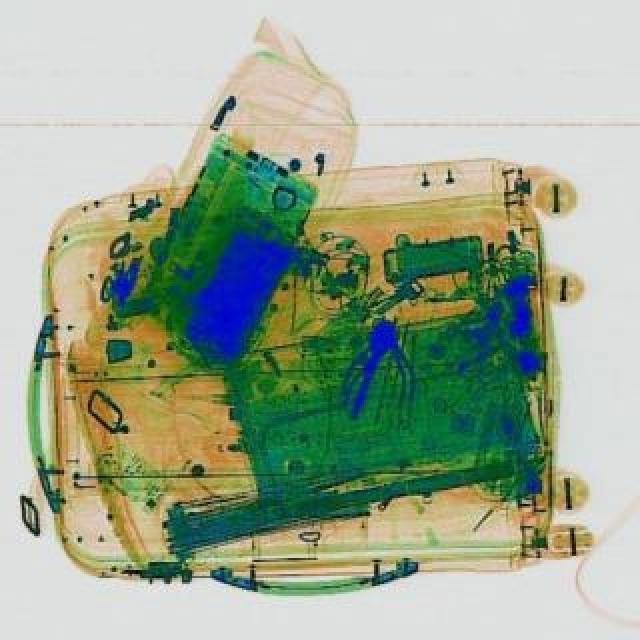wrench: (338, 310, 430, 414), (334, 310, 422, 410)
